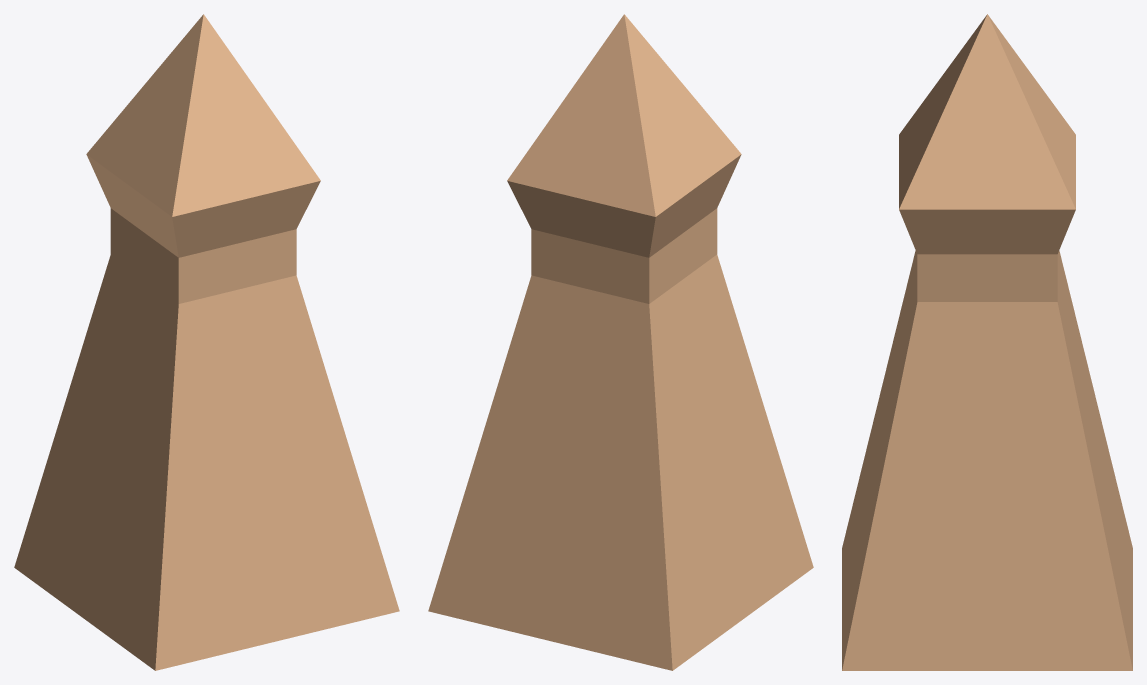
The model's file is bishop_white.fbx.
3 views of the same model, side by side, from view 1: azimuth 30°, elevation 25°; view 2: azimuth 150°, elevation 25°; view 3: azimuth 270°, elevation 25° (orthographic). The views are drawn at different scales.
Visible parts, largest first — view 1: Cube.003; view 2: Cube.003; view 3: Cube.003.
Part boxes in pixels (left/top/right/bottom): Cube.003: left=14, top=14, right=399, bottom=670; Cube.003: left=428, top=14, right=813, bottom=670; Cube.003: left=842, top=14, right=1132, bottom=670.
Bounding box in the file's own units: 2.8 × 6.3 × 2.8.
